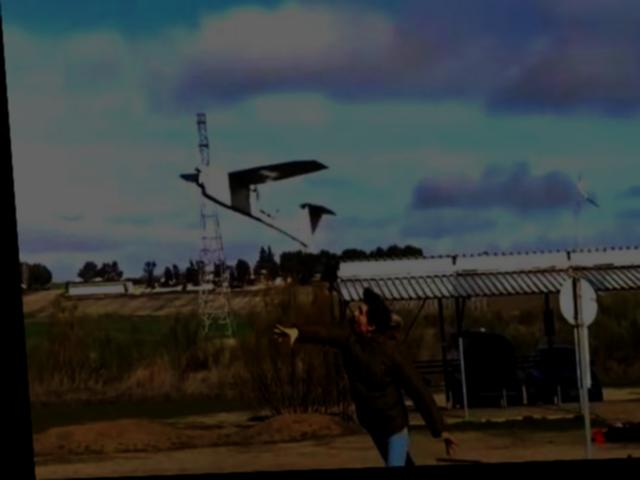iha: (172, 158, 343, 255)
